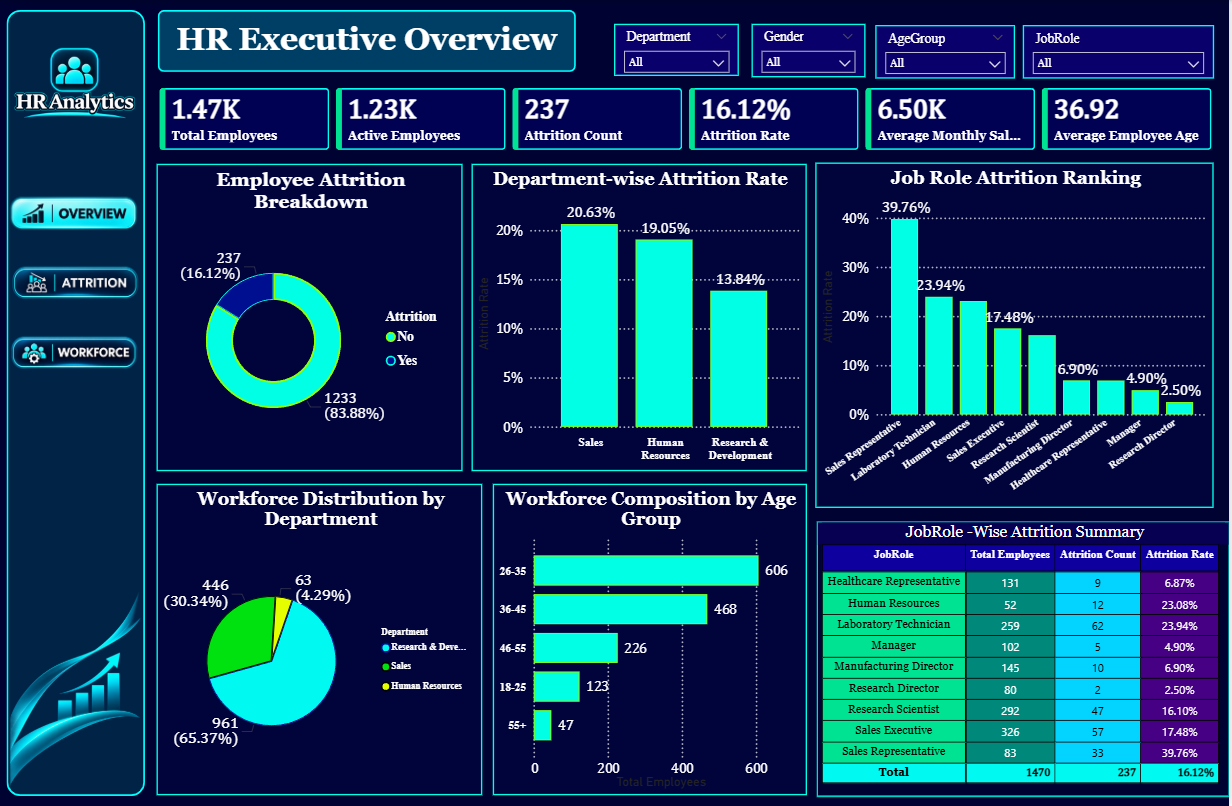

Layout of this report page (visuals, bound fields, positions):
{"tool":"powerbi","page":{"name":"OVERVIEW","canvas":[1450,950],"ordinal":0},"visuals":[{"type":"shape","box":[186.5,12.4,492.8,73.1],"z":0},{"type":"textbox","box":[175.7,18.7,516.1,60.6],"z":1000},{"type":"cardVisual","fields":{"Data":["HR_Analytics.Total Employees","HR_Analytics.Active Employees","HR_Analytics.Attrition Count","HR_Analytics.Attrition Rate","HR_Analytics.Average Monthly Salary","HR_Analytics.Average Employee Age"]},"box":[172.8,86.4,1277.5,107.1],"z":2000},{"type":"donutChart","title":"\tEmployee Attrition Breakdown","fields":{"Category":["HR_Analytics.Attrition"],"Y":["HR_Analytics.Total Employees"]},"box":[185.1,192.9,361,362.6],"z":3000},{"type":"columnChart","title":"Department-wise Attrition Rate","fields":{"Category":["HR_Analytics.Department"],"Y":["HR_Analytics.Attrition Rate"]},"box":[557,192.9,395,362.6],"z":4000},{"type":"pieChart","title":"Workforce Distribution by Department","fields":{"Category":["HR_Analytics.Department"],"Y":["HR_Analytics.Total Employees"]},"box":[185.1,570.9,384.2,367.2],"z":5000},{"type":"pivotTable","title":"JobRole -Wise Attrition Summary","fields":{"Rows":["HR_Analytics.JobRole"],"Values":["HR_Analytics.Total Employees","HR_Analytics.Attrition Count","HR_Analytics.Attrition Rate"]},"box":[962.8,614.2,487.5,324.5],"z":6000},{"type":"barChart","title":"Workforce Composition by Age Group","fields":{"Category":["HR_Analytics.AgeGroup"],"Y":["HR_Analytics.Total Employees"]},"box":[581.7,570.9,370.3,367.2],"z":7000},{"type":"slicer","fields":{"Values":["HR_Analytics.Department"]},"box":[724.9,28,147.3,61.9],"z":8000},{"type":"slicer","fields":{"Values":["HR_Analytics.Gender"]},"box":[886.9,28,134.1,63.4],"z":9000},{"type":"slicer","fields":{"Values":["HR_Analytics.AgeGroup"]},"box":[1032.8,29.5,165,63.4],"z":10000},{"type":"slicer","fields":{"Values":["HR_Analytics.JobRole"]},"box":[1206.7,29.5,225.4,63.4],"z":11000},{"type":"columnChart","title":"\tJob Role Attrition Ranking","fields":{"Category":["HR_Analytics.JobRole"],"Y":["HR_Analytics.Attrition Rate"]},"box":[962.8,192.2,469.8,407.5],"z":12000},{"type":"shape","box":[9.3,12.4,163.2,926.5],"z":13000},{"type":"image","box":[12.1,18.1,155.4,161.5],"z":14000},{"type":"image","box":[9.1,212.8,158.5,78.5],"z":15000},{"type":"image","box":[13.6,291.3,153.9,83],"z":16000},{"type":"image","box":[12.1,374.3,153.9,83],"z":17000},{"type":"image","box":[13.6,670.1,153.9,279.2],"z":18000}]}

Visuals, with their boxes in screenshot pixels (x1, y1, x2, y2), scaled from the page's 1450x950 canvas onto the 1232x806 screenshot:
shape: <region>158, 11, 577, 73</region>
textbox: <region>149, 16, 588, 67</region>
cardVisual - HR_Analytics.Total Employees x HR_Analytics.Active Employees: <region>147, 73, 1231, 164</region>
"	Employee Attrition Breakdown" donutChart: <region>157, 164, 464, 471</region>
"Department-wise Attrition Rate" columnChart: <region>473, 164, 809, 471</region>
"Workforce Distribution by Department" pieChart: <region>157, 484, 484, 796</region>
"JobRole -Wise Attrition Summary" pivotTable: <region>818, 521, 1231, 796</region>
"Workforce Composition by Age Group" barChart: <region>494, 484, 809, 796</region>
slicer - HR_Analytics.Department: <region>616, 24, 741, 76</region>
slicer - HR_Analytics.Gender: <region>754, 24, 867, 78</region>
slicer - HR_Analytics.AgeGroup: <region>878, 25, 1018, 79</region>
slicer - HR_Analytics.JobRole: <region>1025, 25, 1217, 79</region>
"	Job Role Attrition Ranking" columnChart: <region>818, 163, 1217, 509</region>
shape: <region>8, 11, 147, 797</region>
image: <region>10, 15, 142, 152</region>
image: <region>8, 181, 142, 247</region>
image: <region>12, 247, 142, 318</region>
image: <region>10, 318, 141, 388</region>
image: <region>12, 569, 142, 805</region>
